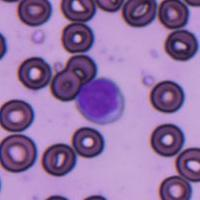M: (75, 77, 125, 124)
